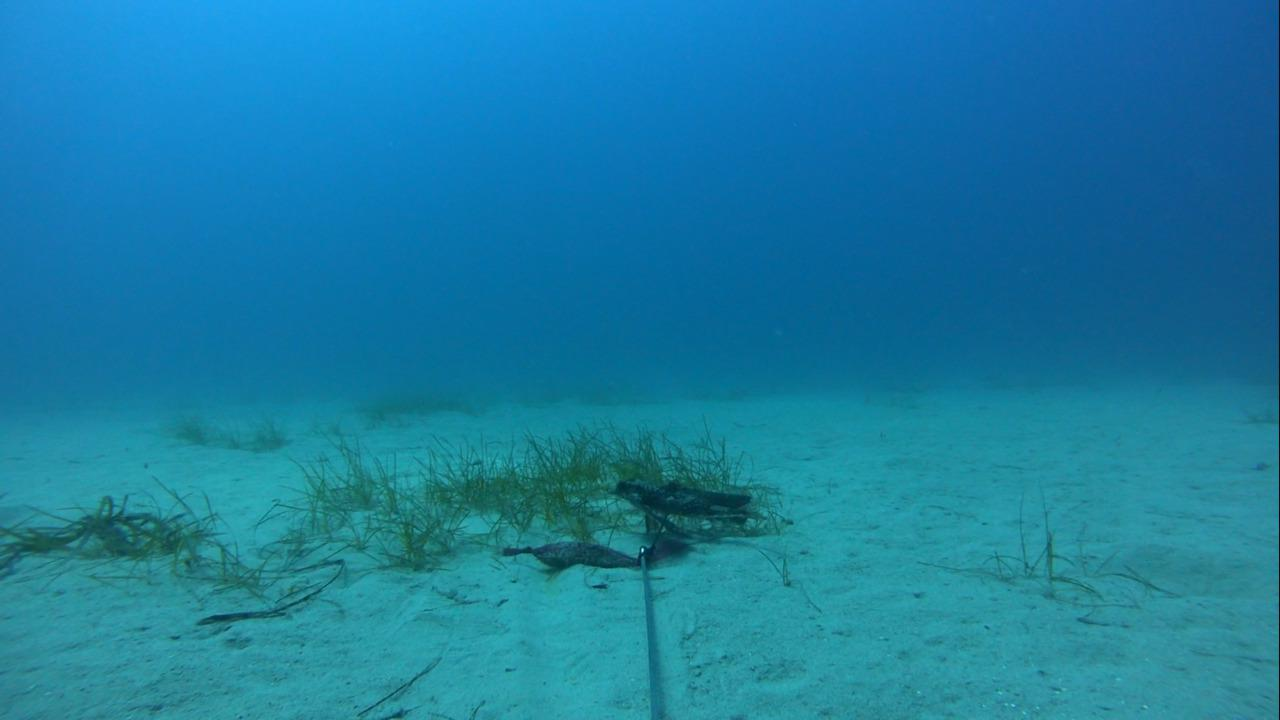dactylopterus: (604, 472, 789, 541)
